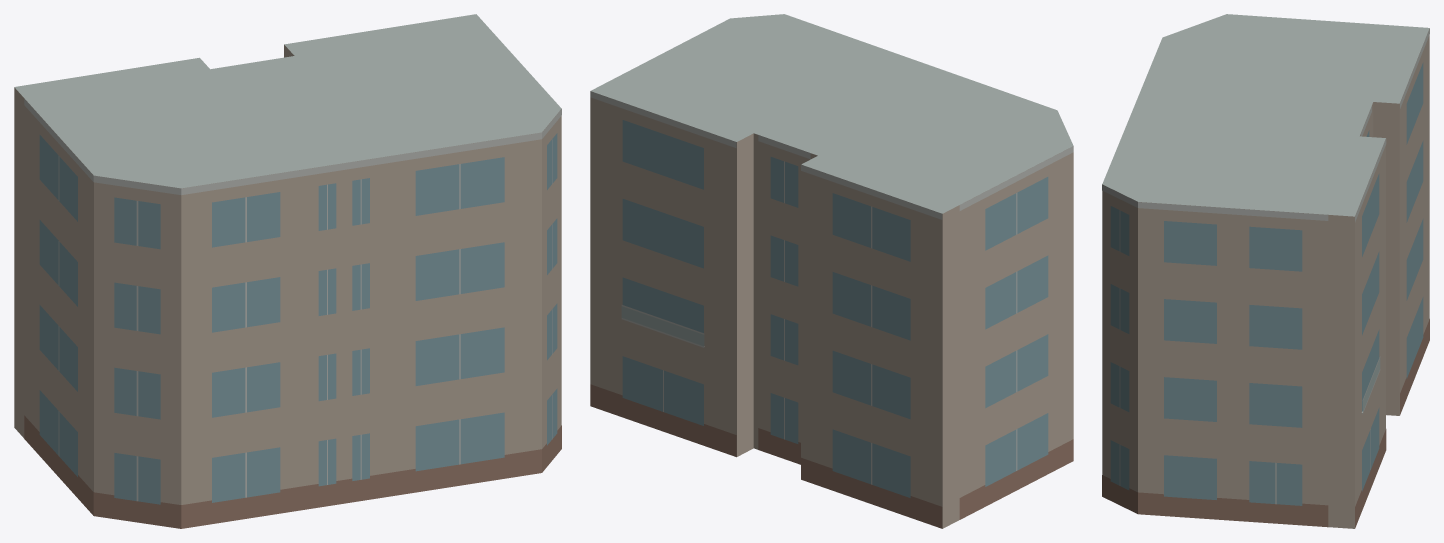
File: survey-upis-32881613.glb
3 views of the same model, side by side, from view 1: azimuth 30°, elevation 25°; view 2: azimuth 150°, elevation 25°; view 3: azimuth 270°, elevation 25° (orthographic). The views are drawn at different scales.
Visible parts, largest first — view 1: survey-upis-32881613.tmp; view 2: survey-upis-32881613.tmp; view 3: survey-upis-32881613.tmp.
Part boxes in pixels (bbox=[...]): survey-upis-32881613.tmp: bbox=[14, 14, 561, 528]; survey-upis-32881613.tmp: bbox=[590, 14, 1073, 528]; survey-upis-32881613.tmp: bbox=[1102, 14, 1429, 528].
Size of the model in its own units: 16.97 by 12.2 by 11.6.
